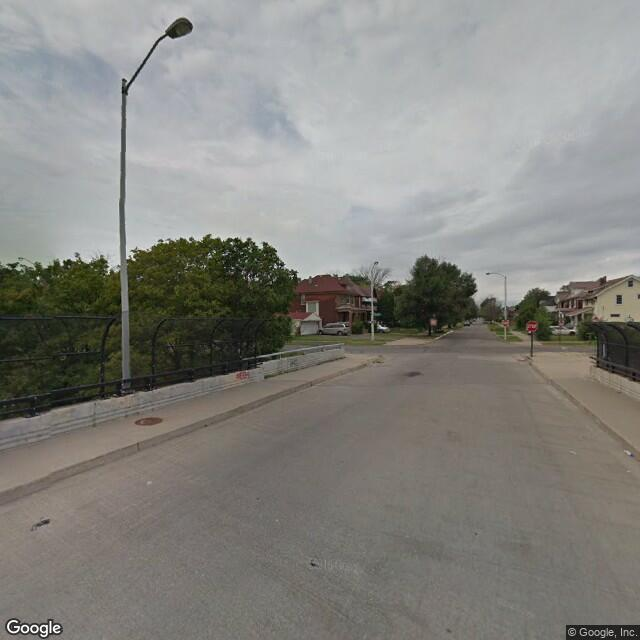litter: (617, 443, 637, 458)
